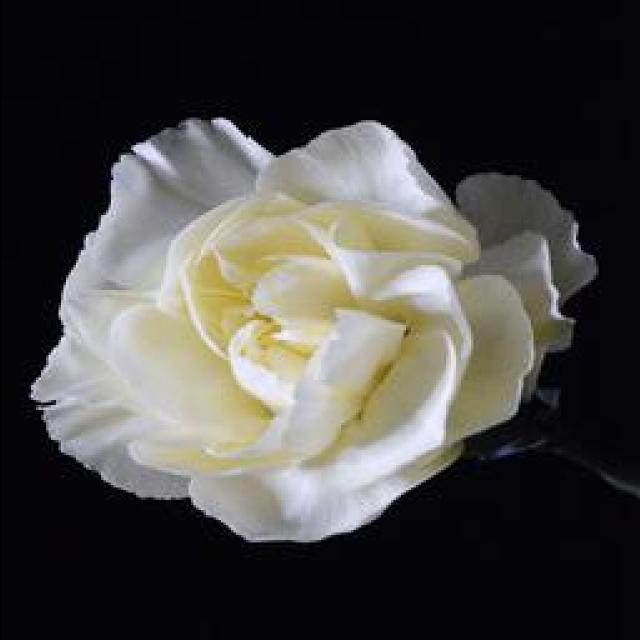carnation: (17, 94, 598, 580)
